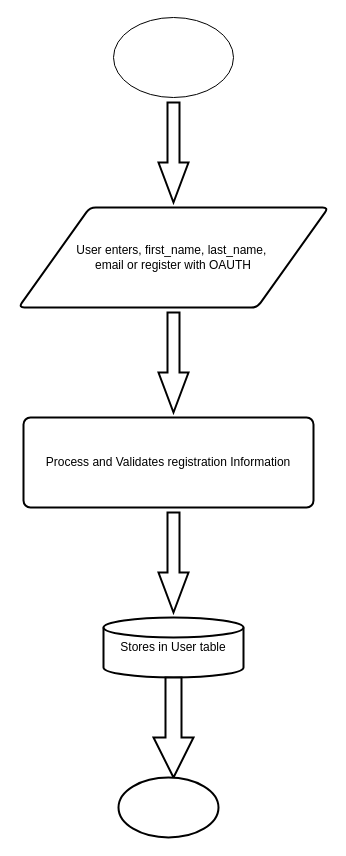
This 346x856 diagram has some shape labels left out. The shapes that lost their labels are listed below. From the top down, each one's centre as x and y in pixels, then its label:
At (173,57): "START".
At (168,807): "END".
